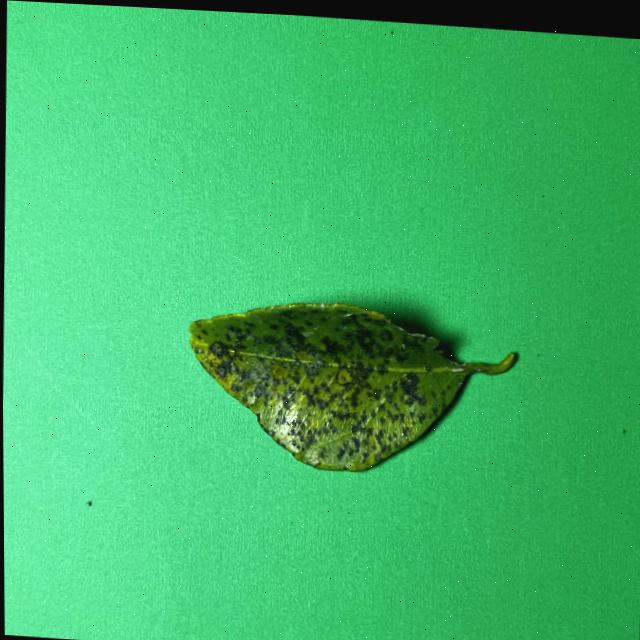sooty_mold: (188, 303, 508, 471)
